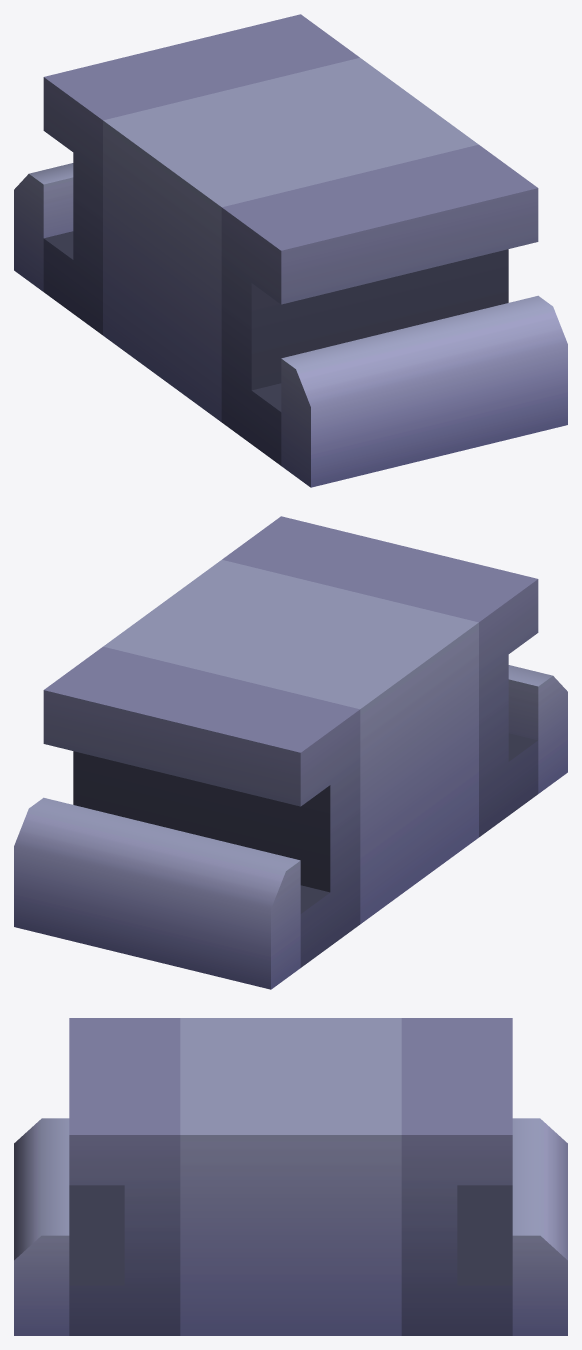
File: kenney-conveyor-conveyor-long-stripe-sides-part-middle.glb
3 renders of one model, top to bottom at view 1: azimuth 30°, elevation 25°; view 2: azimuth 150°, elevation 25°; view 3: azimuth 270°, elevation 25°, orthographic. The views are drawn at different scales.
Visible parts, largest first — view 1: conveyor-long-stripe-sides-part-middle; view 2: conveyor-long-stripe-sides-part-middle; view 3: conveyor-long-stripe-sides-part-middle.
Part boxes in pixels (bbox=[...]): conveyor-long-stripe-sides-part-middle: bbox=[14, 14, 567, 487]; conveyor-long-stripe-sides-part-middle: bbox=[14, 516, 567, 989]; conveyor-long-stripe-sides-part-middle: bbox=[14, 1018, 567, 1335].
Bounding box in the file's own units: 0.5001 × 0.3999 × 1.
Materials: 1 (1 with a texture image).
